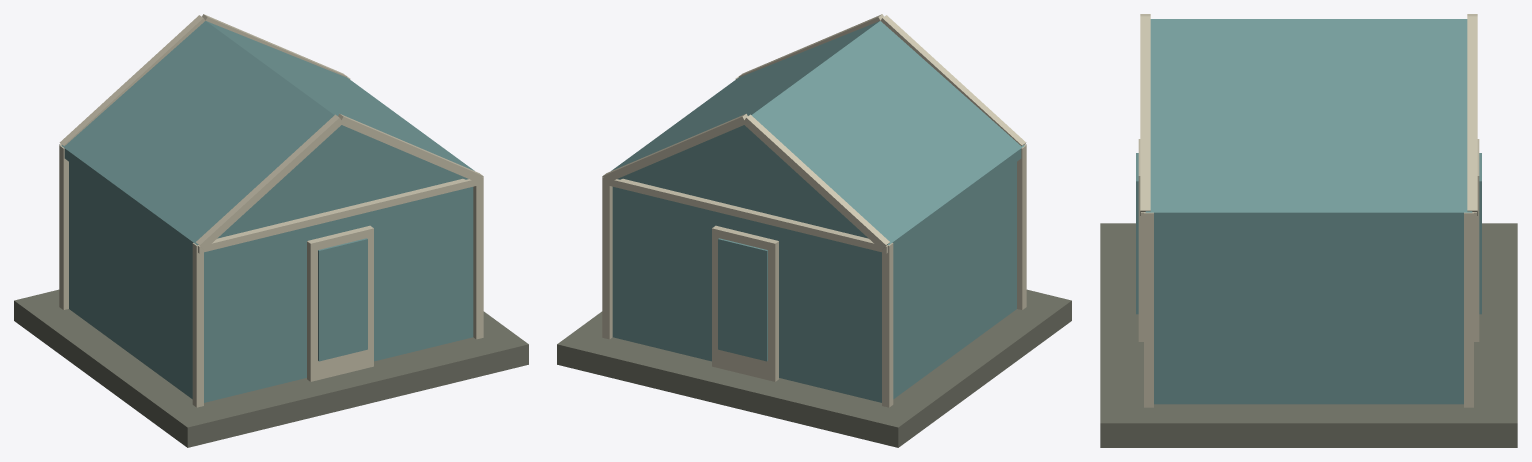
Rendered from Backyard_Greenhouse_Simple.glb.
3 views of the same model, side by side, from view 1: azimuth 30°, elevation 25°; view 2: azimuth 150°, elevation 25°; view 3: azimuth 270°, elevation 25° (orthographic). The views are drawn at different scales.
Parts seen in each view (by area): view 1: Backyard_Greenhouse_Simple; view 2: Backyard_Greenhouse_Simple; view 3: Backyard_Greenhouse_Simple.
Part boxes in pixels (left/top/right/bottom): Backyard_Greenhouse_Simple: left=14, top=14, right=528, bottom=447; Backyard_Greenhouse_Simple: left=557, top=14, right=1071, bottom=447; Backyard_Greenhouse_Simple: left=1100, top=14, right=1517, bottom=447.
Size of the model in its own units: 4.2 by 3.26 by 3.7.
